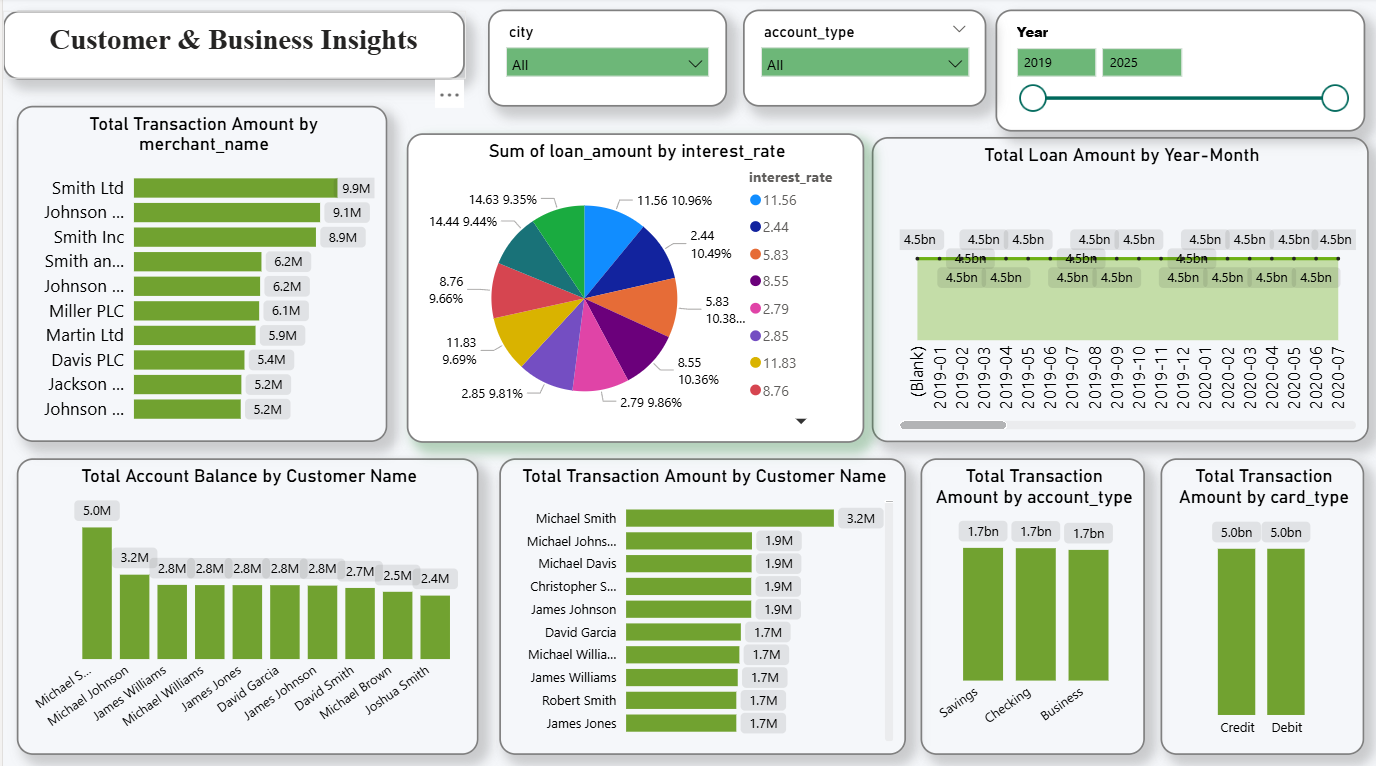

Layout of this report page (visuals, bound fields, positions):
{"tool":"powerbi","page":{"name":"Customer & Business Insights","canvas":[1280,720],"ordinal":1},"visuals":[{"type":"slicer","fields":{"Values":["Date.Year"]},"box":[923.5,11.2,343.9,113.9],"z":0},{"type":"slicer","fields":{"Values":["customers_cleaned.city"]},"box":[451.1,11.2,222.2,90.4],"z":1000},{"type":"slicer","fields":{"Values":["accounts_cleaned.account_type"]},"box":[687.8,11.2,226.7,90.4],"z":2000},{"type":"clusteredBarChart","fields":{"Category":["customers_cleaned.Customer Name"],"Y":["Measures (2).Total Transaction Amount"]},"box":[461.1,429.5,378.7,275.8],"z":3000},{"type":"columnChart","fields":{"Category":["customers_cleaned.Customer Name"],"Y":["Measures (2).Total Account Balance"]},"box":[12.3,429.5,429.5,275.8],"z":4000},{"type":"clusteredBarChart","fields":{"Category":["merchants_cleaned.merchant_name"],"Y":["Measures (2).Total Transaction Amount"]},"box":[12.3,101.6,345,312.7],"z":5000},{"type":"clusteredColumnChart","fields":{"Y":["Measures (2).Total Transaction Amount"],"Category":["accounts_cleaned.account_type"]},"box":[853.5,429.5,208.6,275.8],"z":6000},{"type":"clusteredColumnChart","fields":{"Category":["cards_cleaned.card_type"],"Y":["Measures (2).Total Transaction Amount"]},"box":[1077.2,429.5,189.4,275.8],"z":7000},{"type":"lineChart","fields":{"Y":["Measures (2).Total Loan Amount"],"Category":["Date.Year-Month"]},"box":[808.2,130.4,462.4,284],"z":8000},{"type":"pieChart","fields":{"Category":["loans_cleaned.interest_rate"],"Y":["Sum(loans_cleaned.loan_amount)"]},"box":[375.2,126.2,425.4,288.1],"z":9000},{"type":"textbox","box":[0,12.3,429.9,63.6],"z":10000}]}

Visuals, with their boxes in screenshot pixels (x1, y1, x2, y2), scaled from the page's 1280x720 canvas onto the 1376x766 screenshot:
slicer - Date.Year: BBox(993, 12, 1362, 133)
slicer - customers_cleaned.city: BBox(485, 12, 724, 108)
slicer - accounts_cleaned.account_type: BBox(739, 12, 983, 108)
clusteredBarChart - customers_cleaned.Customer Name x Measures (2).Total Transaction Amount: BBox(496, 457, 903, 750)
columnChart - customers_cleaned.Customer Name x Measures (2).Total Account Balance: BBox(13, 457, 475, 750)
clusteredBarChart - merchants_cleaned.merchant_name x Measures (2).Total Transaction Amount: BBox(13, 108, 384, 441)
clusteredColumnChart - Measures (2).Total Transaction Amount x accounts_cleaned.account_type: BBox(918, 457, 1142, 750)
clusteredColumnChart - cards_cleaned.card_type x Measures (2).Total Transaction Amount: BBox(1158, 457, 1362, 750)
lineChart - Measures (2).Total Loan Amount x Date.Year-Month: BBox(869, 139, 1366, 441)
pieChart - loans_cleaned.interest_rate x Sum(loans_cleaned.loan_amount): BBox(403, 134, 861, 441)
textbox: BBox(0, 13, 462, 81)
